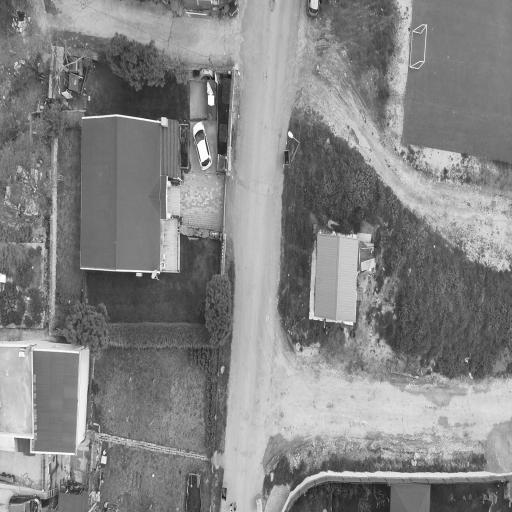car: (193, 122, 212, 170), (8, 495, 40, 511), (306, 0, 320, 17)
person: (229, 503, 232, 511)
